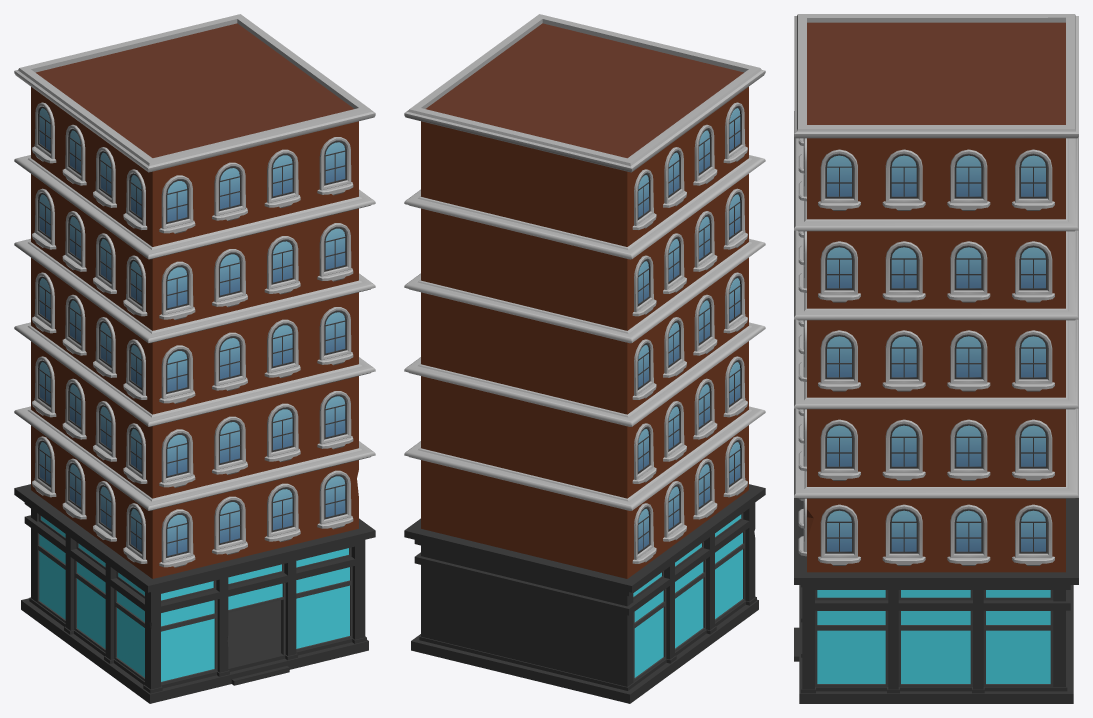
File: SM_Buildings_House_05_V1.fbx
The picture shows the model from 3 angles, left to right: view 1: azimuth 30°, elevation 25°; view 2: azimuth 150°, elevation 25°; view 3: azimuth 270°, elevation 25°; orthographic projection. The views are drawn at different scales.
Visible parts, largest first — view 1: SM_Buildings_House_05_V1; view 2: SM_Buildings_House_05_V1; view 3: SM_Buildings_House_05_V1.
Boxes of the visible parts, left/top/right/bottom form: SM_Buildings_House_05_V1: left=14, top=14, right=375, bottom=703; SM_Buildings_House_05_V1: left=404, top=14, right=765, bottom=703; SM_Buildings_House_05_V1: left=794, top=14, right=1078, bottom=703.
Size of the model in its own units: 10.8 by 24.55 by 11.
